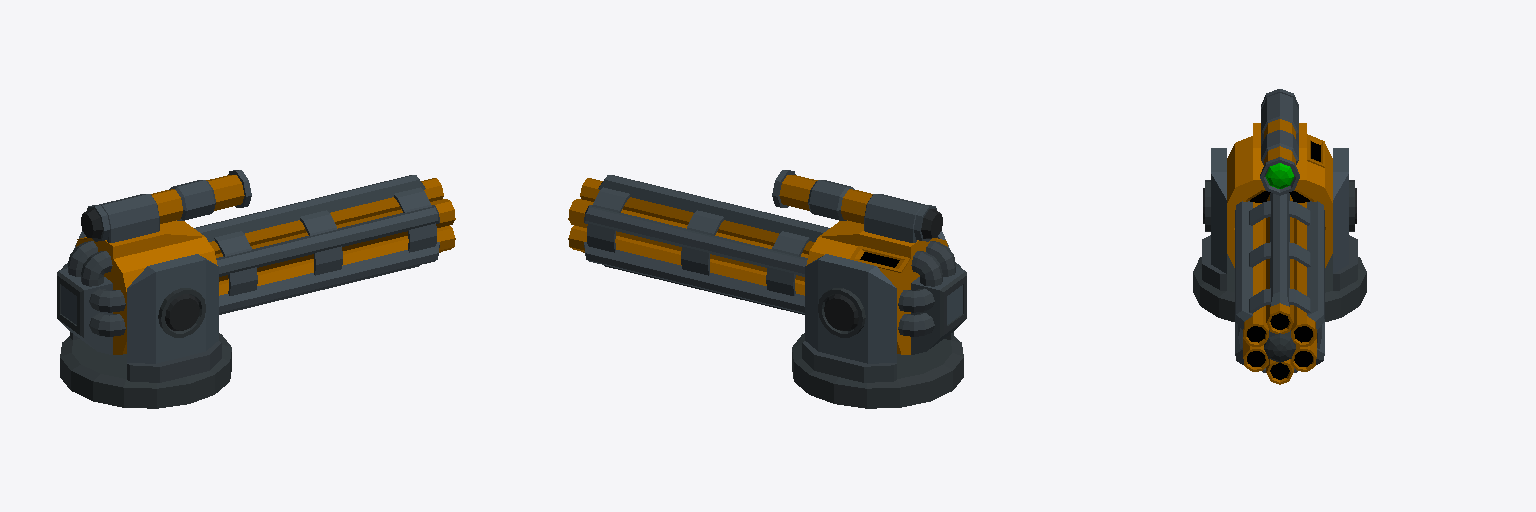
3 views of the same model, side by side, from view 1: azimuth 30°, elevation 25°; view 2: azimuth 150°, elevation 25°; view 3: azimuth 270°, elevation 25° (orthographic).
Parts seen in each view (by area): view 1: MiniGunR_Trackless_Engine.001_Cylinder.001, Eixo_R_Trackless_Engine.001_Cylinder.003; view 2: MiniGunR_Trackless_Engine.001_Cylinder.001, Eixo_R_Trackless_Engine.001_Cylinder.003; view 3: MiniGunR_Trackless_Engine.001_Cylinder.001, Eixo_R_Trackless_Engine.001_Cylinder.003.
Part boxes in pixels (left/top/right/bottom): MiniGunR_Trackless_Engine.001_Cylinder.001: left=57, top=170, right=455, bottom=354; Eixo_R_Trackless_Engine.001_Cylinder.003: left=60, top=231, right=231, bottom=408; MiniGunR_Trackless_Engine.001_Cylinder.001: left=568, top=170, right=966, bottom=354; Eixo_R_Trackless_Engine.001_Cylinder.003: left=792, top=231, right=963, bottom=408; MiniGunR_Trackless_Engine.001_Cylinder.001: left=1227, top=89, right=1332, bottom=384; Eixo_R_Trackless_Engine.001_Cylinder.003: left=1193, top=148, right=1366, bottom=321.
Size of the model in its own units: 4.29 by 1.96 by 1.72.
Materials: 2 (1 with a texture image).